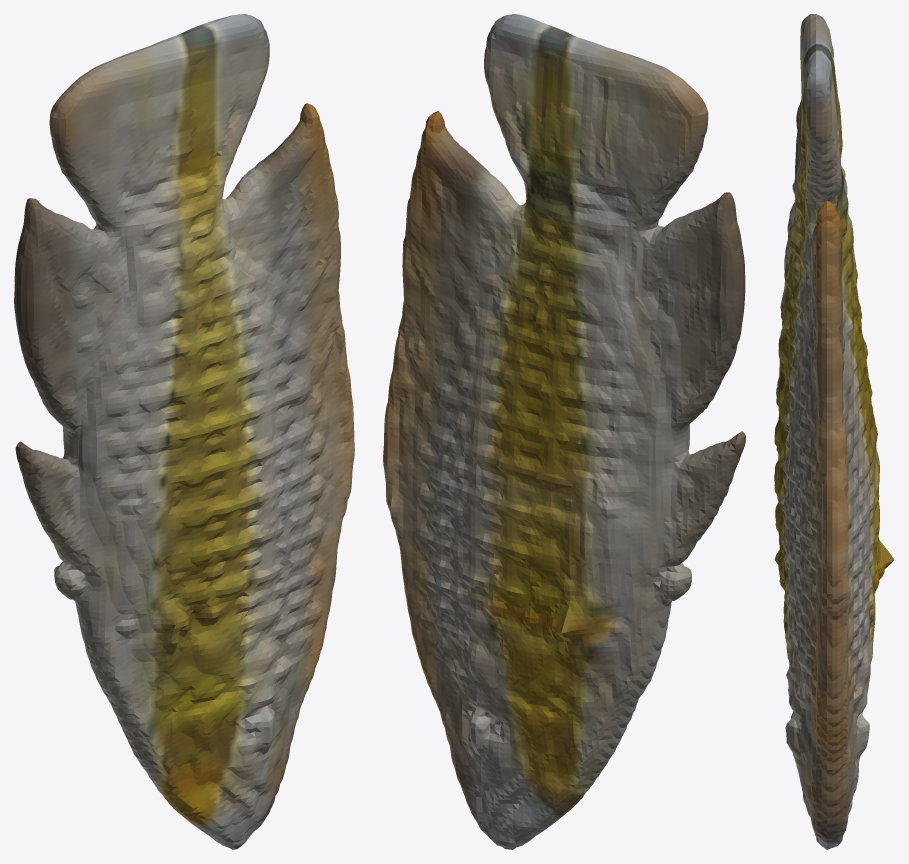
Rendered from acanthurus-olivaceus.glb.
The picture shows the model from 3 angles, left to right: view 1: azimuth 30°, elevation 25°; view 2: azimuth 150°, elevation 25°; view 3: azimuth 270°, elevation 25°; orthographic projection. The views are drawn at different scales.
Visible parts, largest first — view 1: world; view 2: world; view 3: world.
Part boxes in pixels (x1=…): world: x1=14, y1=14, x2=354, y2=849; world: x1=383, y1=14, x2=745, y2=849; world: x1=774, y1=14, x2=894, y2=849.
Bounding box in the file's own units: 0.4763 × 1.09 × 0.1517.
